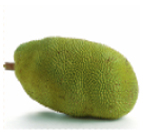jackfruit: (4, 35, 140, 121)
